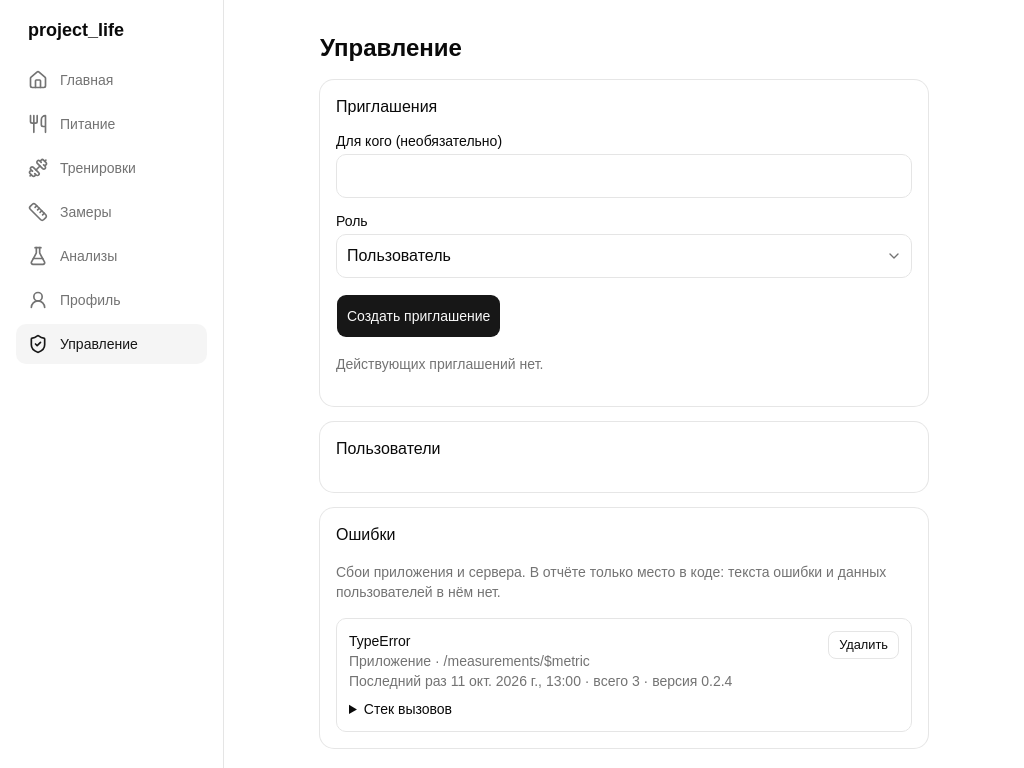
ошибки › удаляет разобранную ошибку
The image size is (1024, 768).
Click the button "Удалить".
click(864, 645)  # box [828,631,899,659]
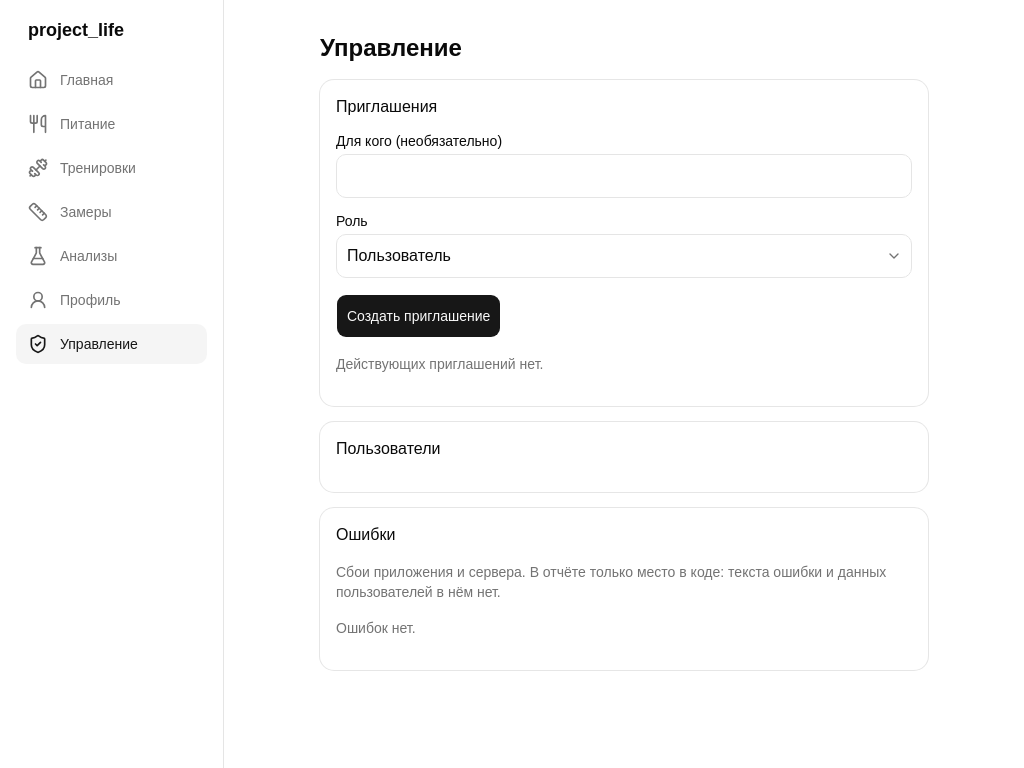
Check: the text "Ошибок нет." is shown, box [336,620,416,636]
